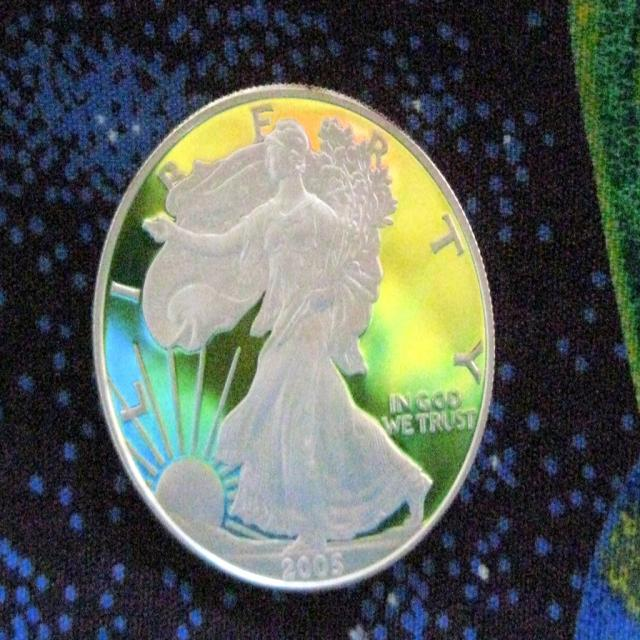Coin: (95, 85, 494, 591)
